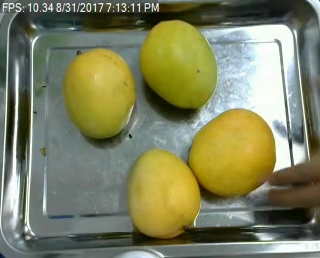Mango: (189, 108, 277, 194), (138, 19, 220, 109), (63, 47, 137, 138), (127, 148, 200, 235)
